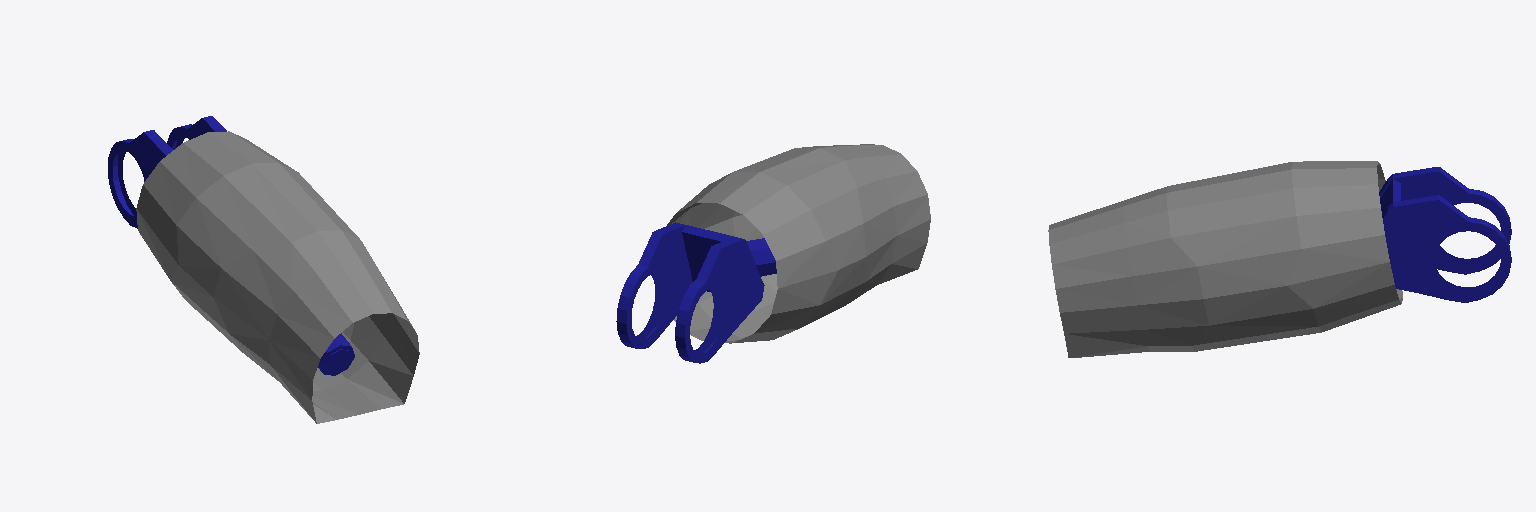
The model's file is R_HFE.obj.
3 renders of one model, left to right at view 1: azimuth 30°, elevation 25°; view 2: azimuth 150°, elevation 25°; view 3: azimuth 270°, elevation 25°, orthographic.
Size of the model in its own units: 5.72 by 6.51 by 15.53.